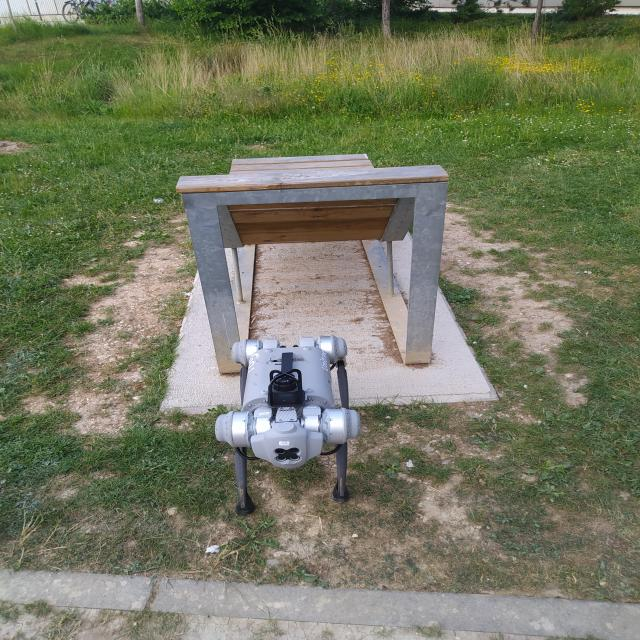unitree-go1-robot: (214, 326, 379, 523)
